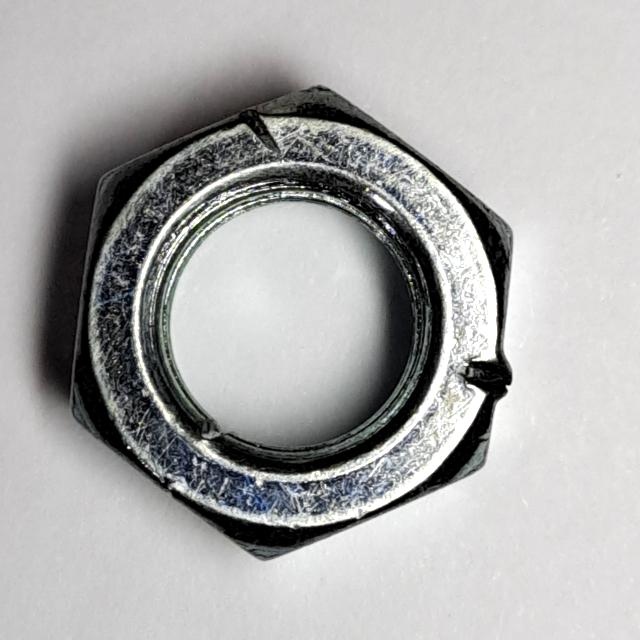Scratches: (57, 82, 530, 573)
